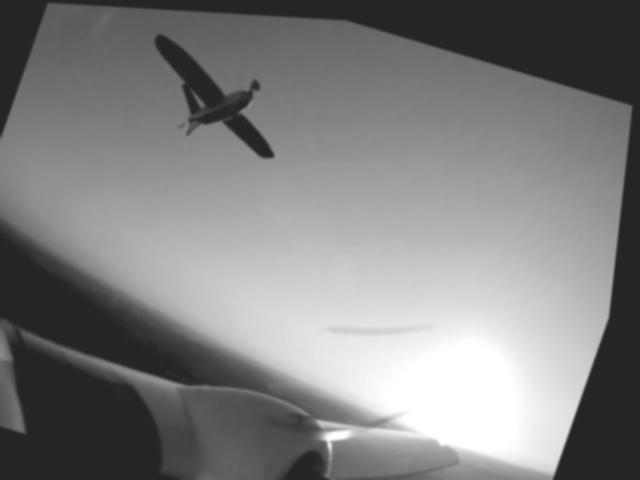hedef: (104, 11, 337, 199)
